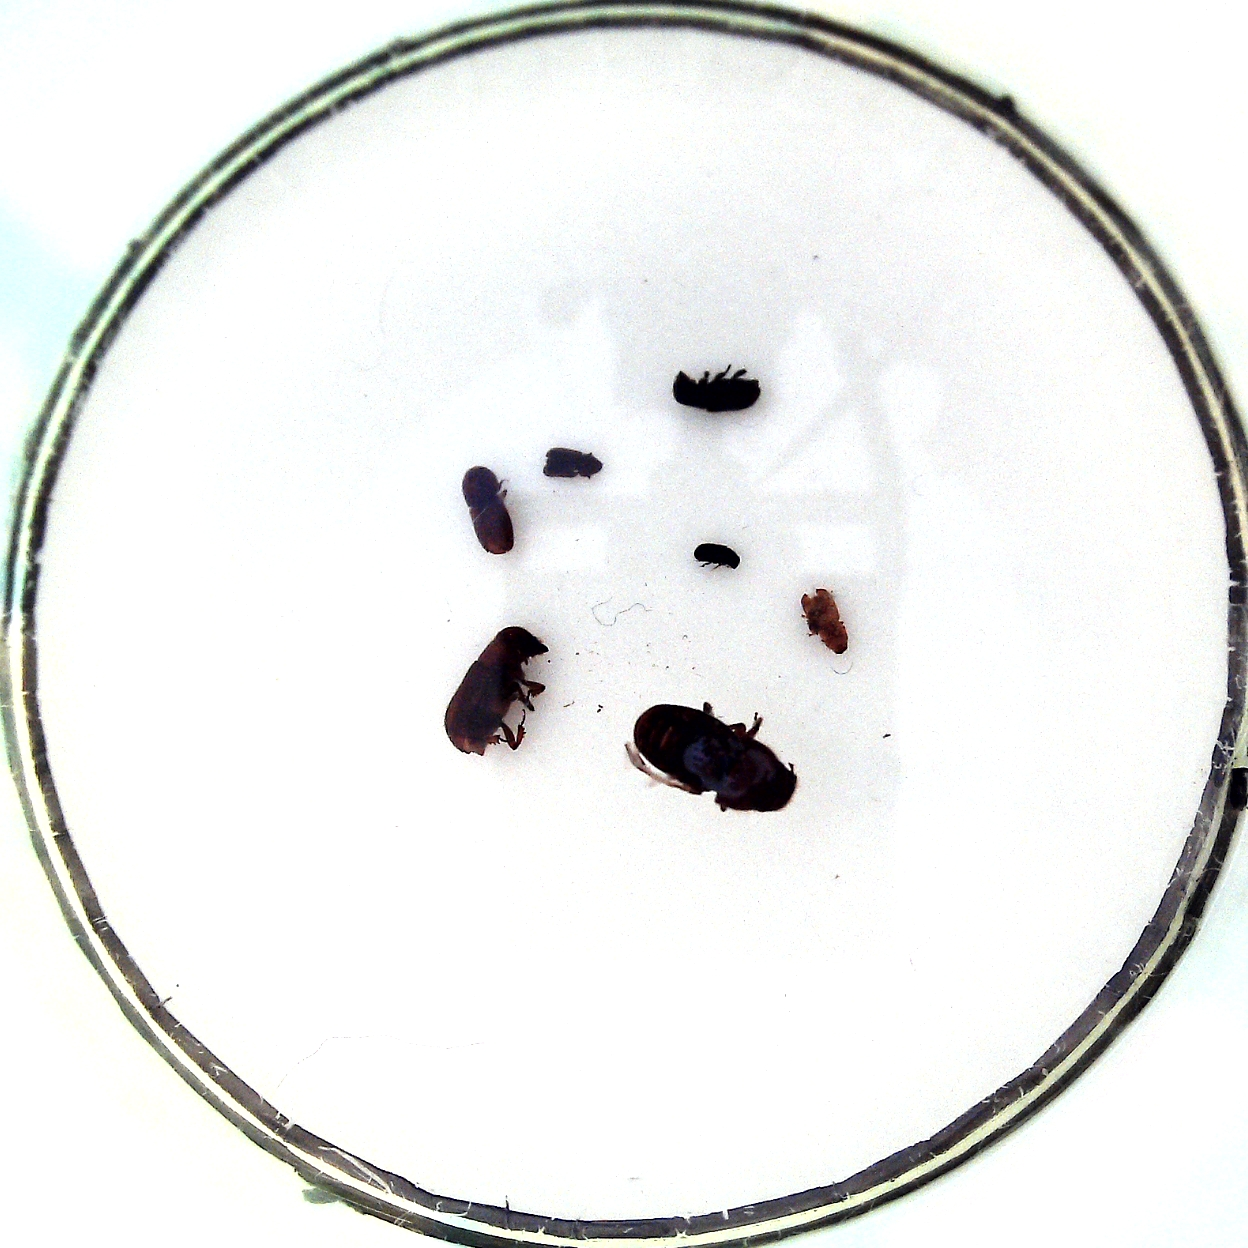Leconte: (634, 703, 797, 811), (445, 626, 551, 757)
acuminatus: (694, 543, 741, 569)
armandi: (672, 369, 762, 411)
coleoptera: (800, 587, 849, 655), (543, 447, 603, 479)
linnaeus: (461, 465, 514, 554)
